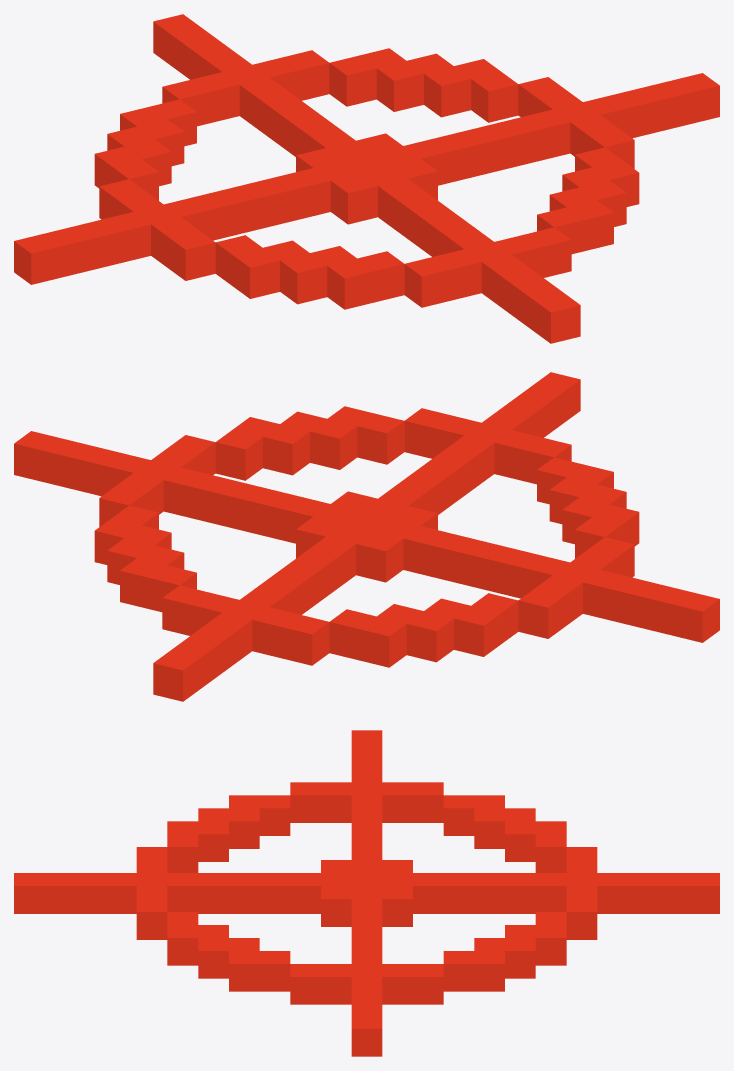
The model's file is 瞄准镜.gltf.
The picture shows the model from 3 angles, top to bottom: view 1: azimuth 30°, elevation 25°; view 2: azimuth 150°, elevation 25°; view 3: azimuth 270°, elevation 25°; orthographic projection. The views are drawn at different scales.
Visible parts, largest first — view 1: Object; view 2: Object; view 3: Object.
Part boxes in pixels (left/top/right/bottom): Object: left=14, top=14, right=719, bottom=343; Object: left=14, top=372, right=719, bottom=701; Object: left=14, top=730, right=719, bottom=1056.
Size of the model in its own units: 23 by 1 by 23.
1 material, 1 textured.
